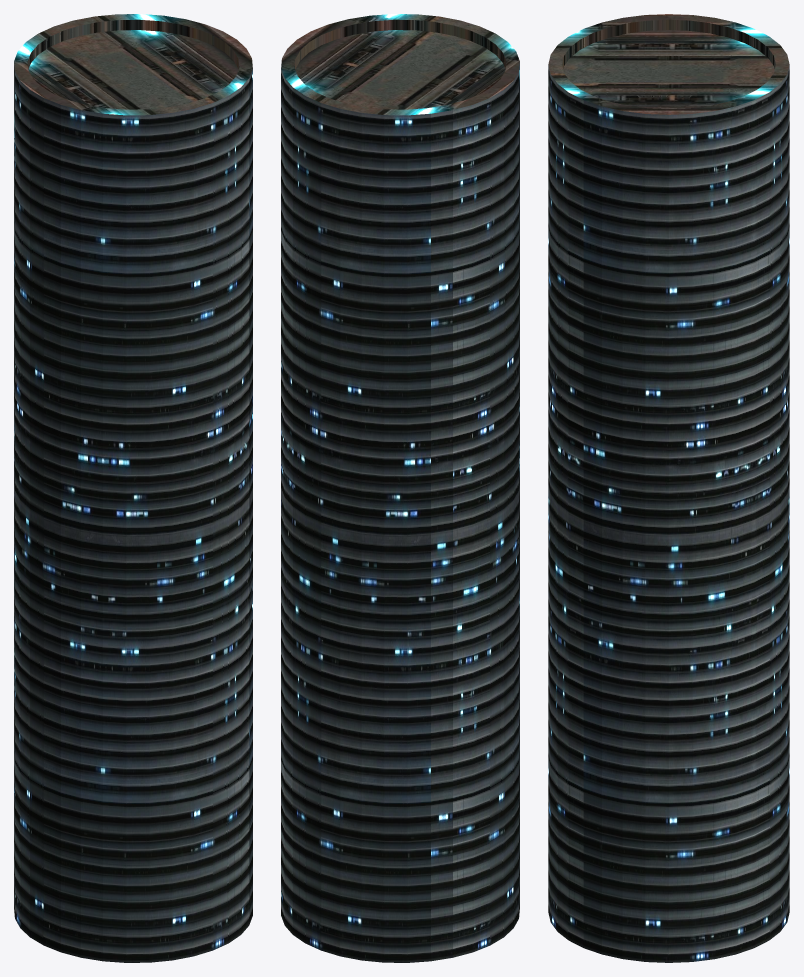
The model's file is s_03_06-new-building.glb.
3 renders of one model, left to right at view 1: azimuth 30°, elevation 25°; view 2: azimuth 150°, elevation 25°; view 3: azimuth 270°, elevation 25°, orthographic.
Parts seen in each view (by area): view 1: s_03_06-new-building-2; view 2: s_03_06-new-building-2; view 3: s_03_06-new-building-2.
Boxes of the visible parts, x1,y1,x2,y2 form: s_03_06-new-building-2: [14, 14, 252, 962]; s_03_06-new-building-2: [281, 14, 519, 962]; s_03_06-new-building-2: [548, 14, 789, 962].
Bounding box in the file's own units: 56.45 × 221 × 57.05.
1 material, 1 textured.
